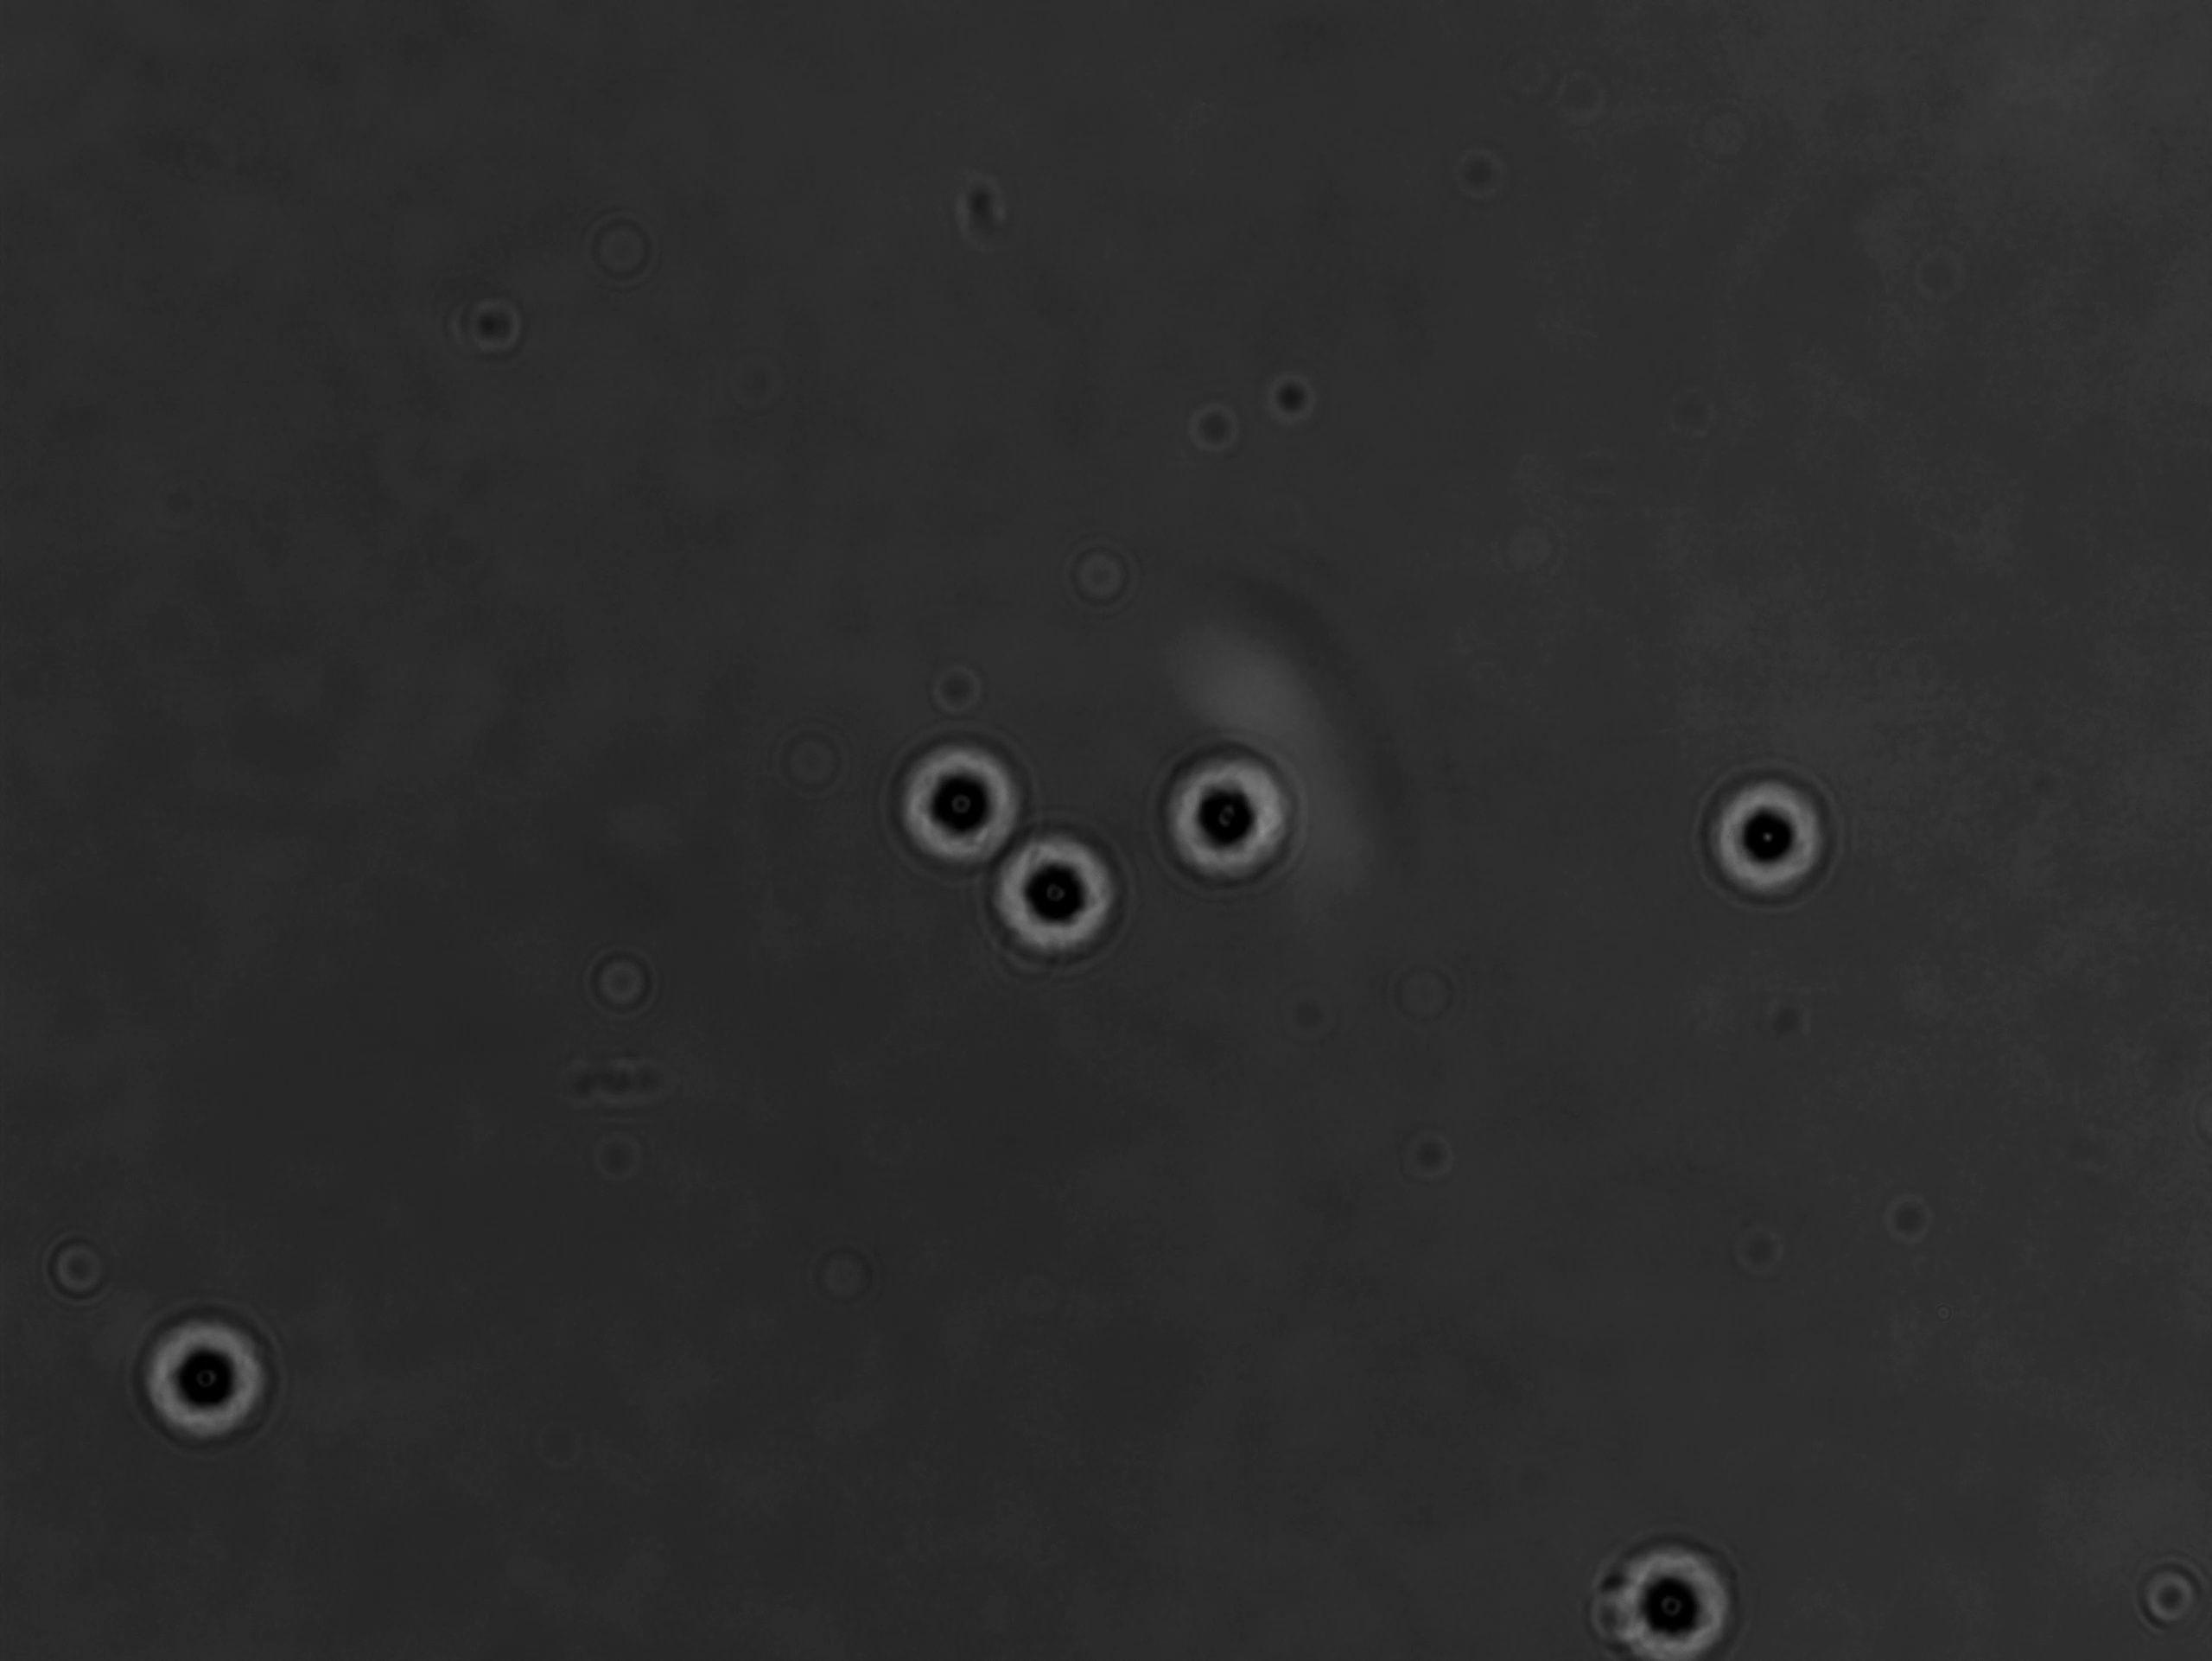depth:-20: (1568, 1490, 1762, 1661), (1673, 738, 1861, 911), (872, 714, 1040, 881), (1146, 736, 1312, 902), (966, 803, 1139, 961), (115, 1291, 276, 1455)
